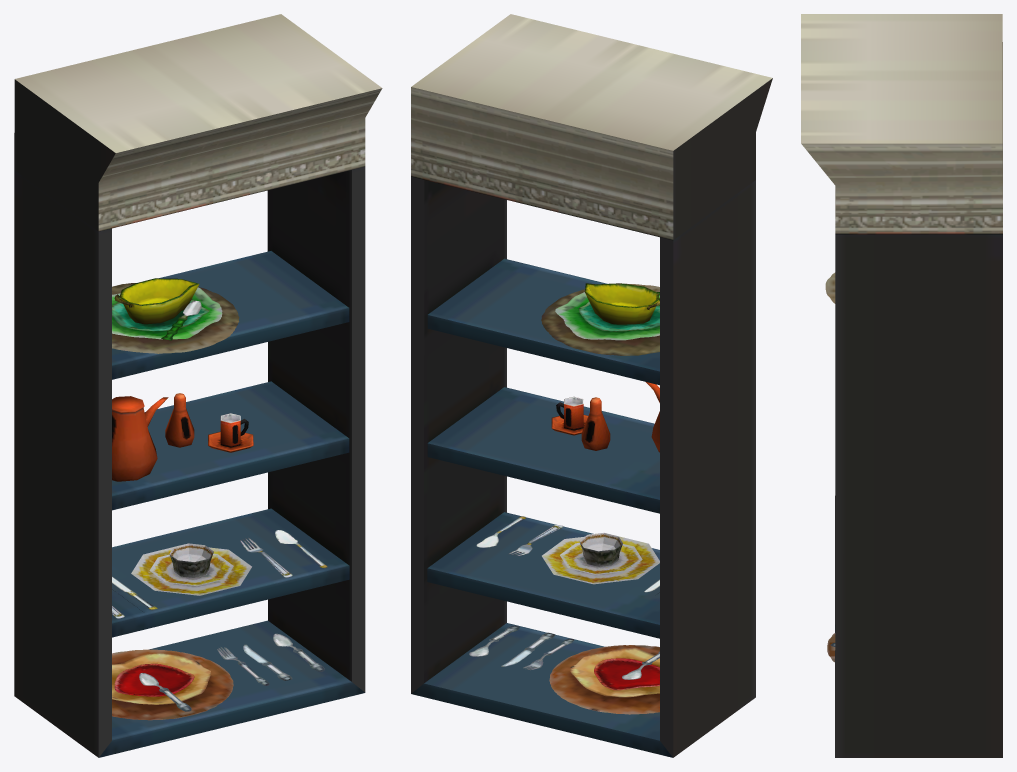
File: furni_0201126_03.FBX
3 renders of one model, left to right at view 1: azimuth 30°, elevation 25°; view 2: azimuth 150°, elevation 25°; view 3: azimuth 270°, elevation 25°, orthographic.
Visible parts, largest first — view 1: furni_0201126_03; view 2: furni_0201126_03; view 3: furni_0201126_03.
Boxes of the visible parts, x1,y1,x2,y2 form: furni_0201126_03: [14, 14, 382, 757]; furni_0201126_03: [411, 14, 772, 757]; furni_0201126_03: [801, 14, 1002, 757].
Bounding box in the file's own units: 81.4 × 180 × 53.62.
Materials: 1 (1 with a texture image).
